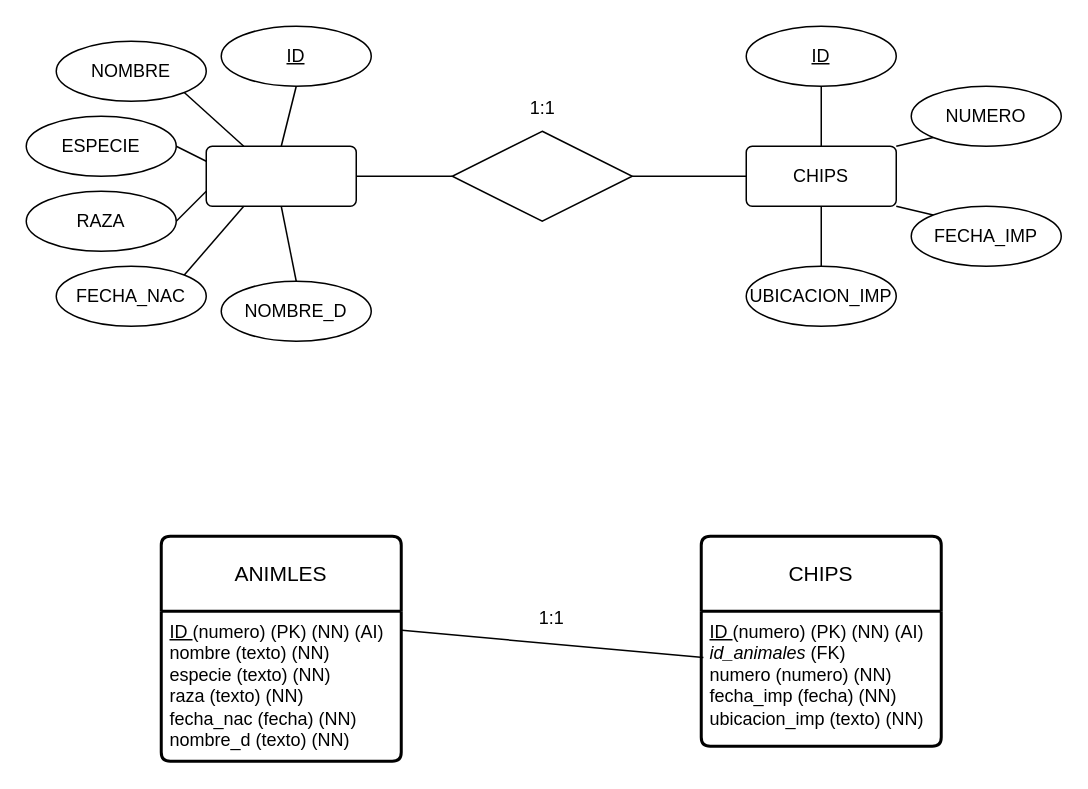
The diagram is 1088 pixels wide and 789 high, and some of its shapes have lost their labels. Each missing label, with the centre of its shape:
ANIMALES: [280,175]
LLEVAN: [541,175]
